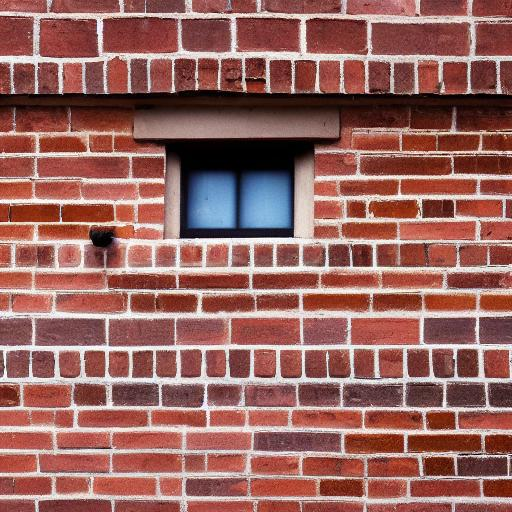Window: (132, 102, 347, 243)
